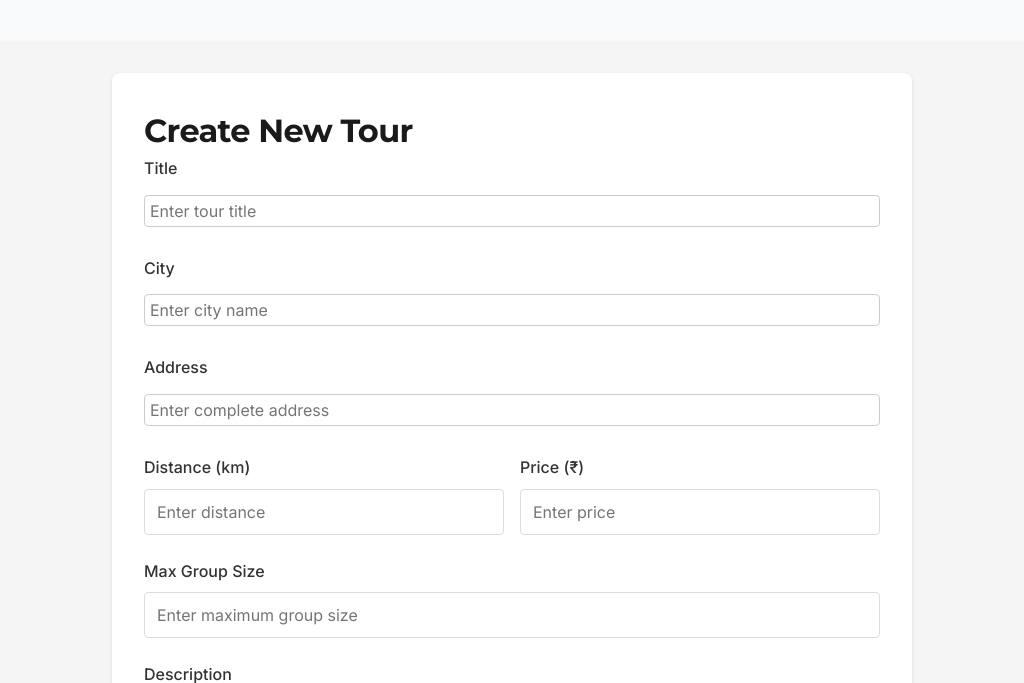
Create Component › validates input fields with invalid data
This screenshot has width=1024, height=683.
# Enter invalid data
Type "ab" into the field labelled "Title" at (512, 211), box [144,195,880,227]
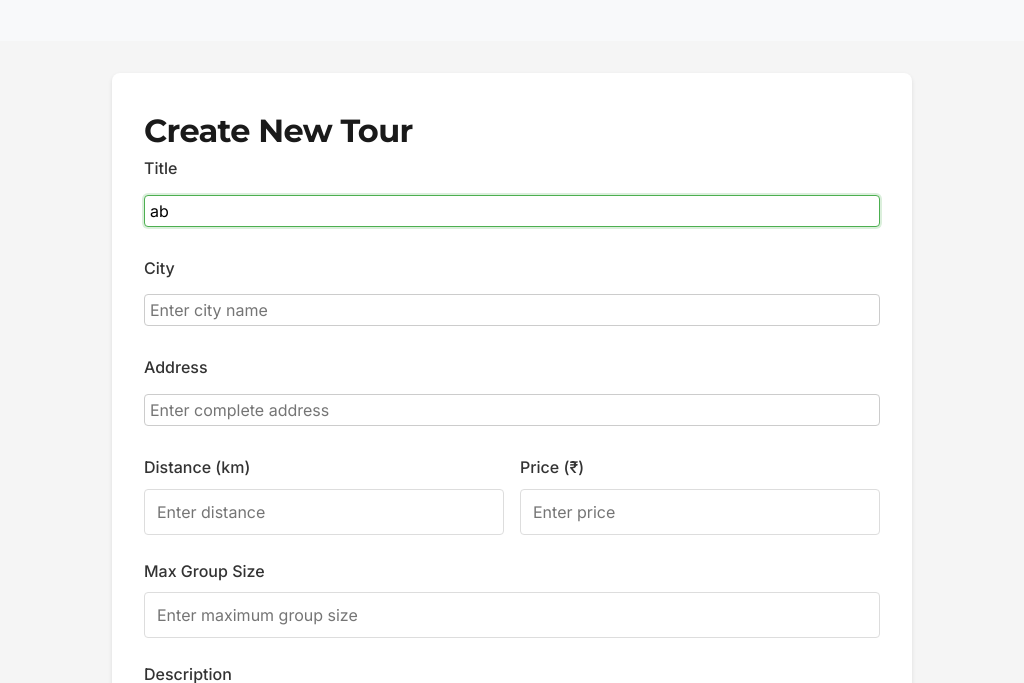
Type "a" into the field labelled "City" at (512, 310), box [144,294,880,326]
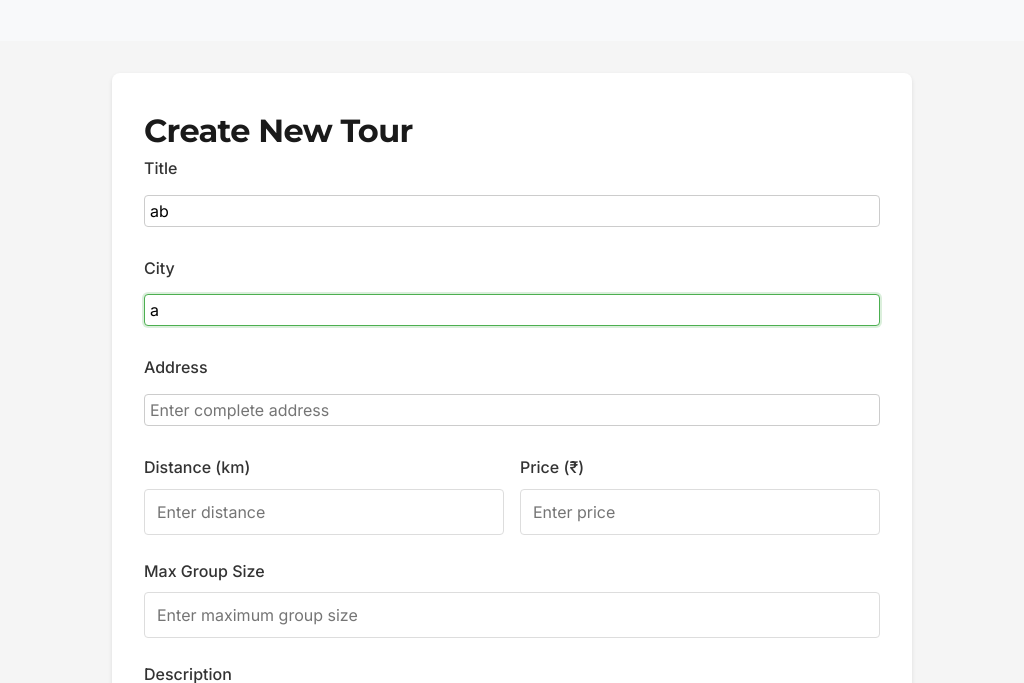
Type "-5" into the number field labelled "Distance (km)" at (324, 512), box [144,489,504,535]
(page scrolled)
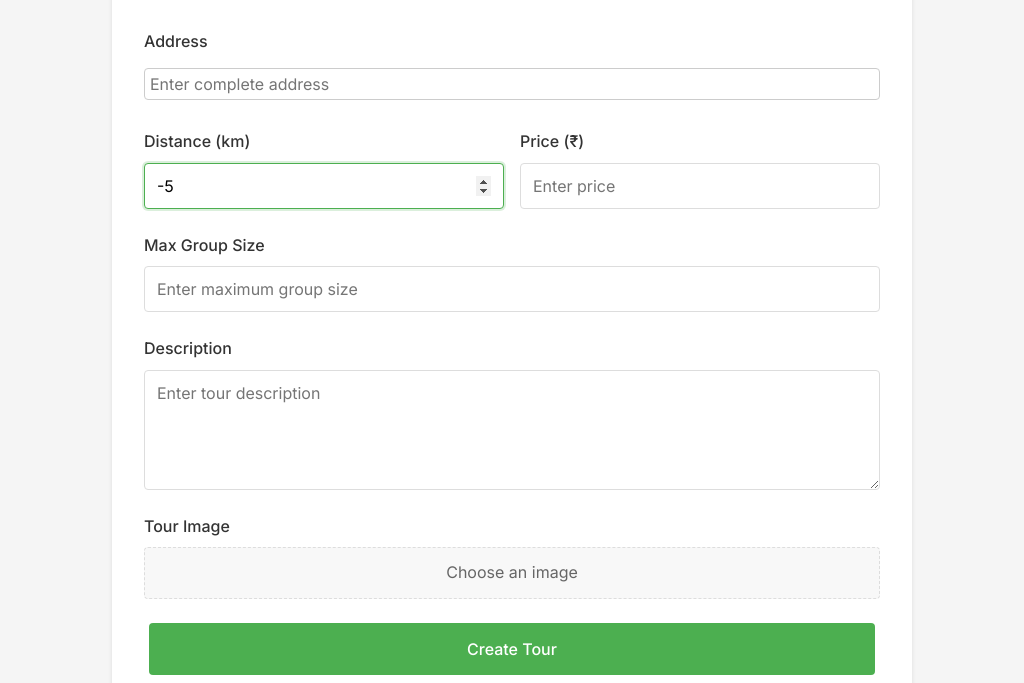
Click the button "Create Tour" at (512, 649), box [149,623,875,675]
(page scrolled)
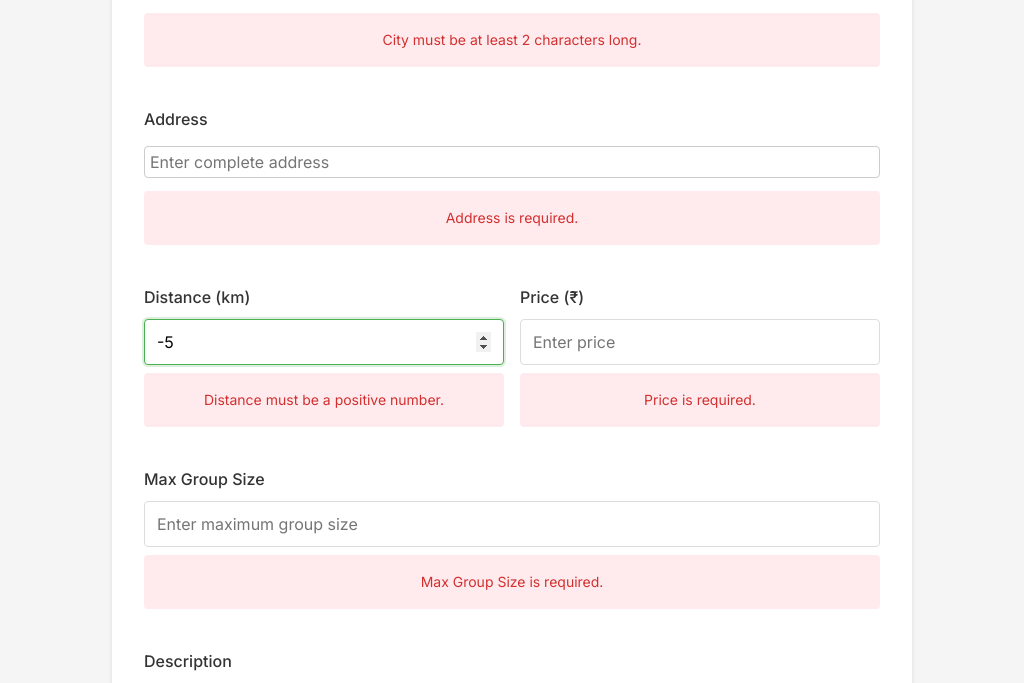
Expected: the text "City must be at least 2 characters long." is shown, [144,13,880,67]
Expected: the text "Distance must be a positive number." is shown, [144,373,504,427]
